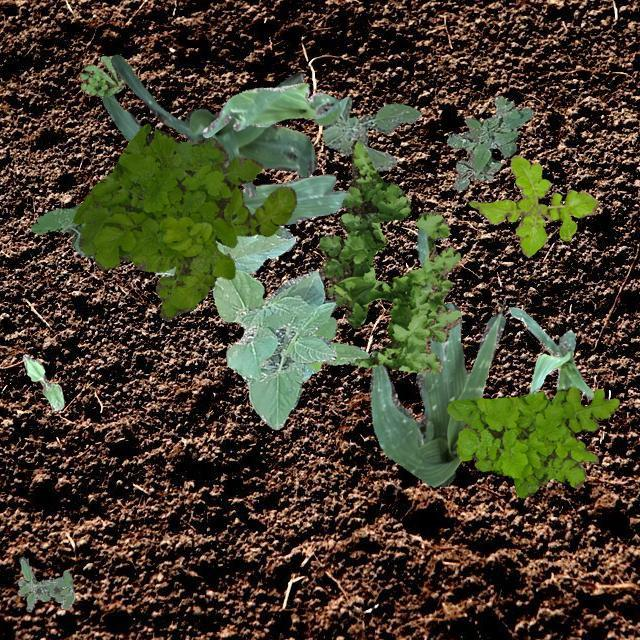crop: (156, 232, 336, 428), (368, 228, 504, 486), (100, 93, 348, 234), (110, 54, 316, 196), (508, 306, 594, 398), (202, 82, 336, 136), (22, 354, 64, 409)
weed: (72, 123, 296, 320), (318, 138, 460, 372), (446, 386, 618, 496), (468, 154, 598, 256), (446, 94, 532, 190), (314, 96, 422, 170), (300, 316, 368, 380), (29, 202, 92, 256), (16, 556, 74, 610), (80, 54, 124, 96)
